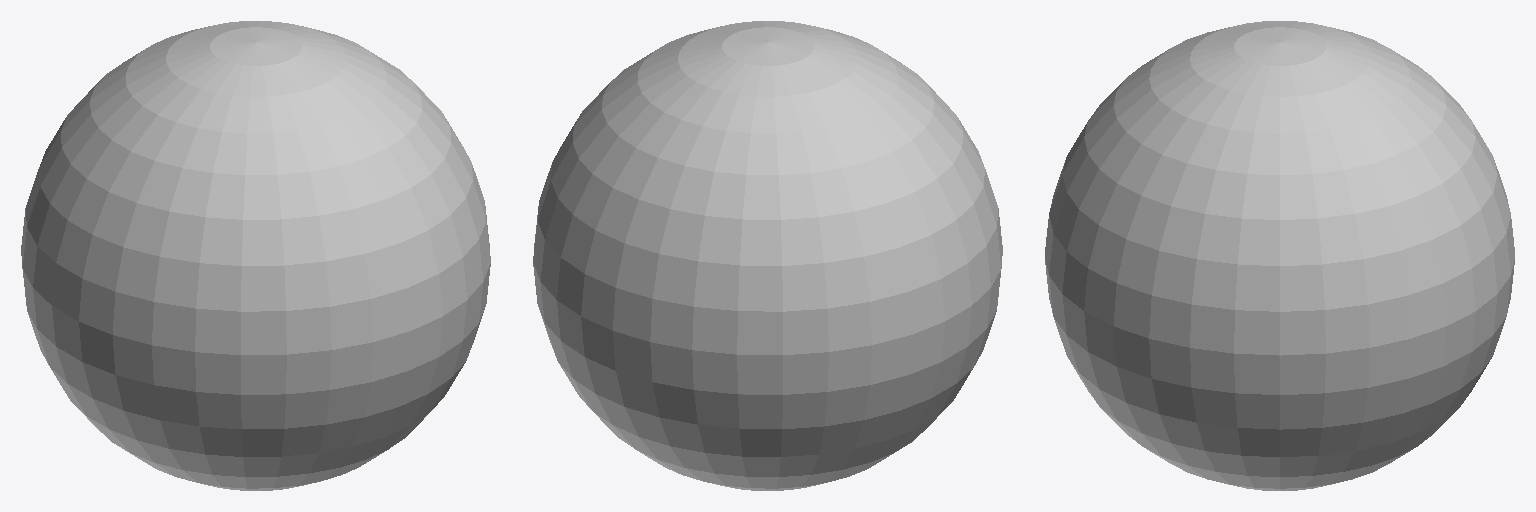
File: LunaMoon — копия.obj
The picture shows the model from 3 angles: view 1: azimuth 30°, elevation 25°; view 2: azimuth 150°, elevation 25°; view 3: azimuth 270°, elevation 25°; orthographic projection.
Visible parts, largest first — view 1: Сфера.009_Сфера.001; view 2: Сфера.009_Сфера.001; view 3: Сфера.009_Сфера.001.
Part boxes in pixels (x1,y1,x2,y2): Сфера.009_Сфера.001: (21,21,490,490); Сфера.009_Сфера.001: (533,21,1002,490); Сфера.009_Сфера.001: (1045,21,1514,490).
Bounding box in the file's own units: 0.1 × 0.1 × 0.1.